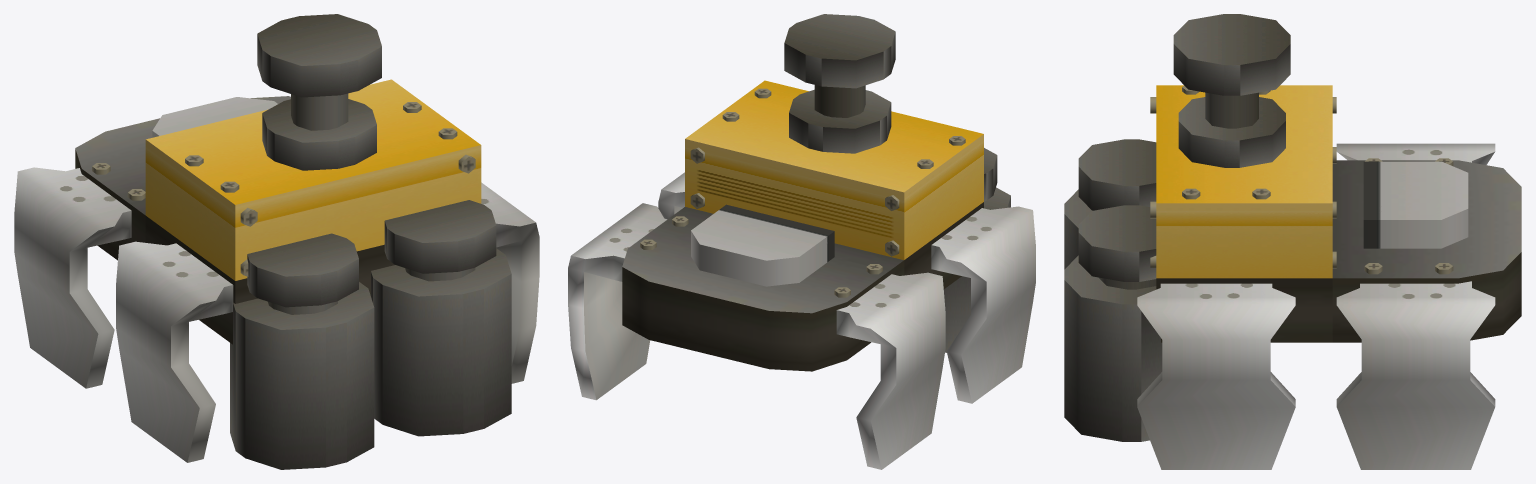
The model's file is FurnaceAnimation.fbx.
3 views of the same model, side by side, from view 1: azimuth 30°, elevation 25°; view 2: azimuth 150°, elevation 25°; view 3: azimuth 270°, elevation 25° (orthographic). The views are drawn at different scales.
Parts seen in each view (by area): view 1: Furnace; view 2: Furnace; view 3: Furnace.
Boxes of the visible parts, left/top/right/bottom form: Furnace: left=14, top=14, right=539, bottom=469; Furnace: left=568, top=14, right=1035, bottom=469; Furnace: left=1064, top=14, right=1521, bottom=469.
Size of the model in its own units: 1.54 by 1.42 by 1.68.
